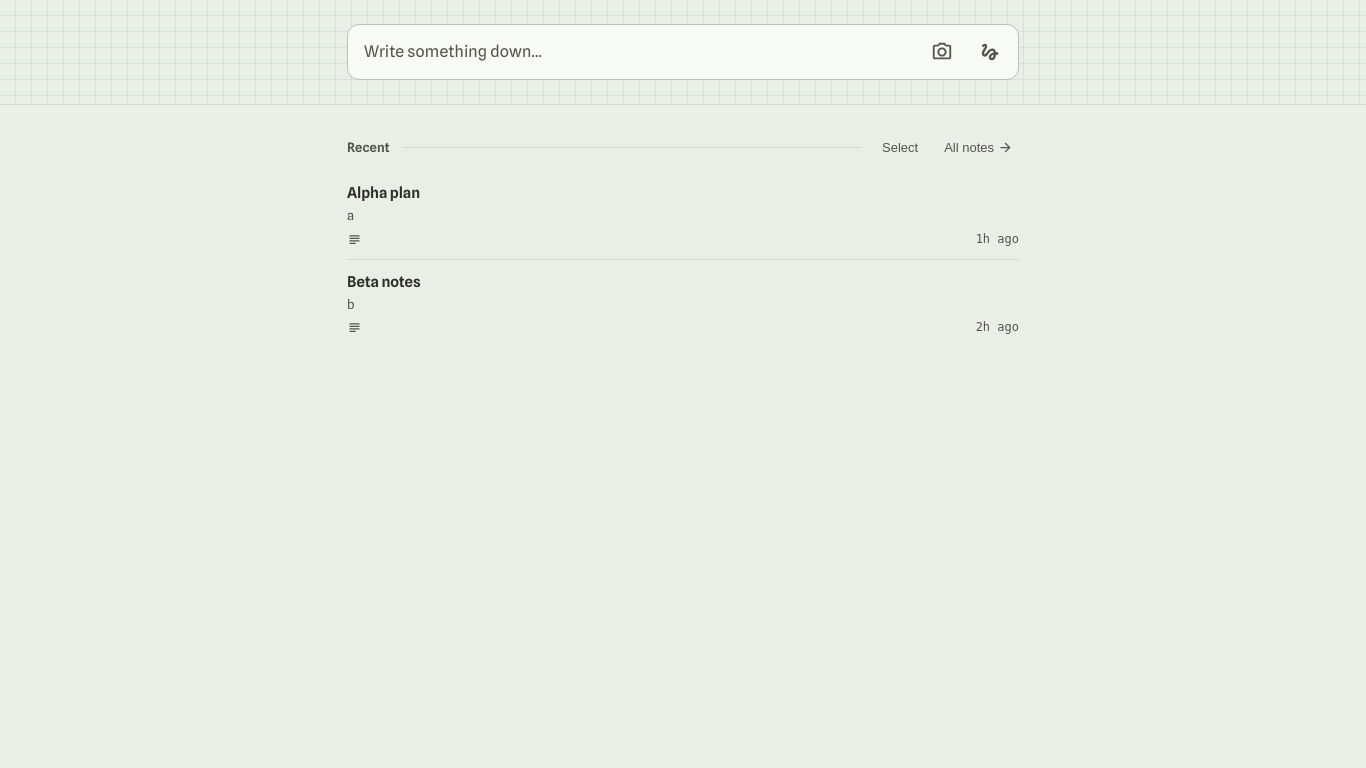
Home select mode › "Select" in the Recent heading enters select mode
Click the button "Select" at coordinates (900, 147), box top-left (874, 125), bottom-right (926, 169)
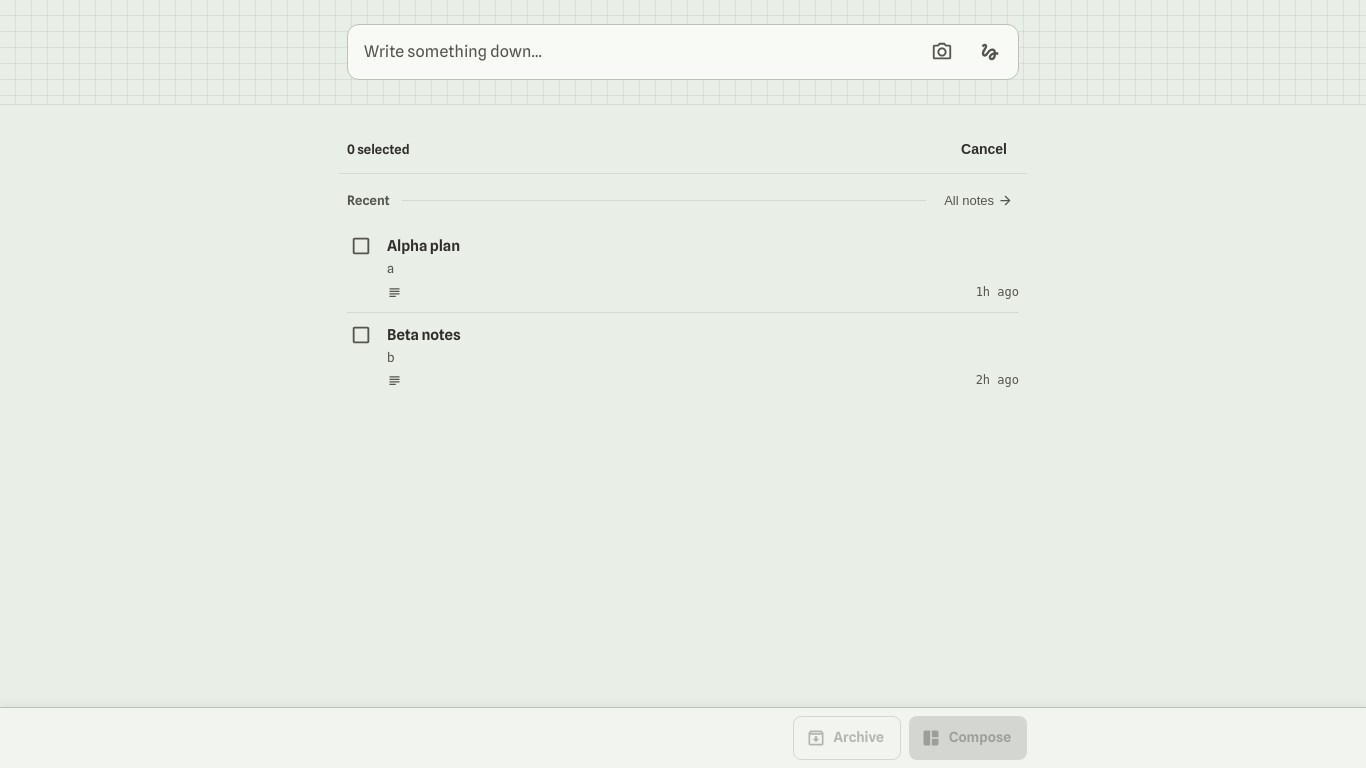
Now the heading "0 selected" is shown, box top-left (347, 140), bottom-right (410, 157)
Now the number of checkboxes is 2, box top-left (339, 224), bottom-right (1027, 312); top-left (339, 312), bottom-right (1027, 400)
